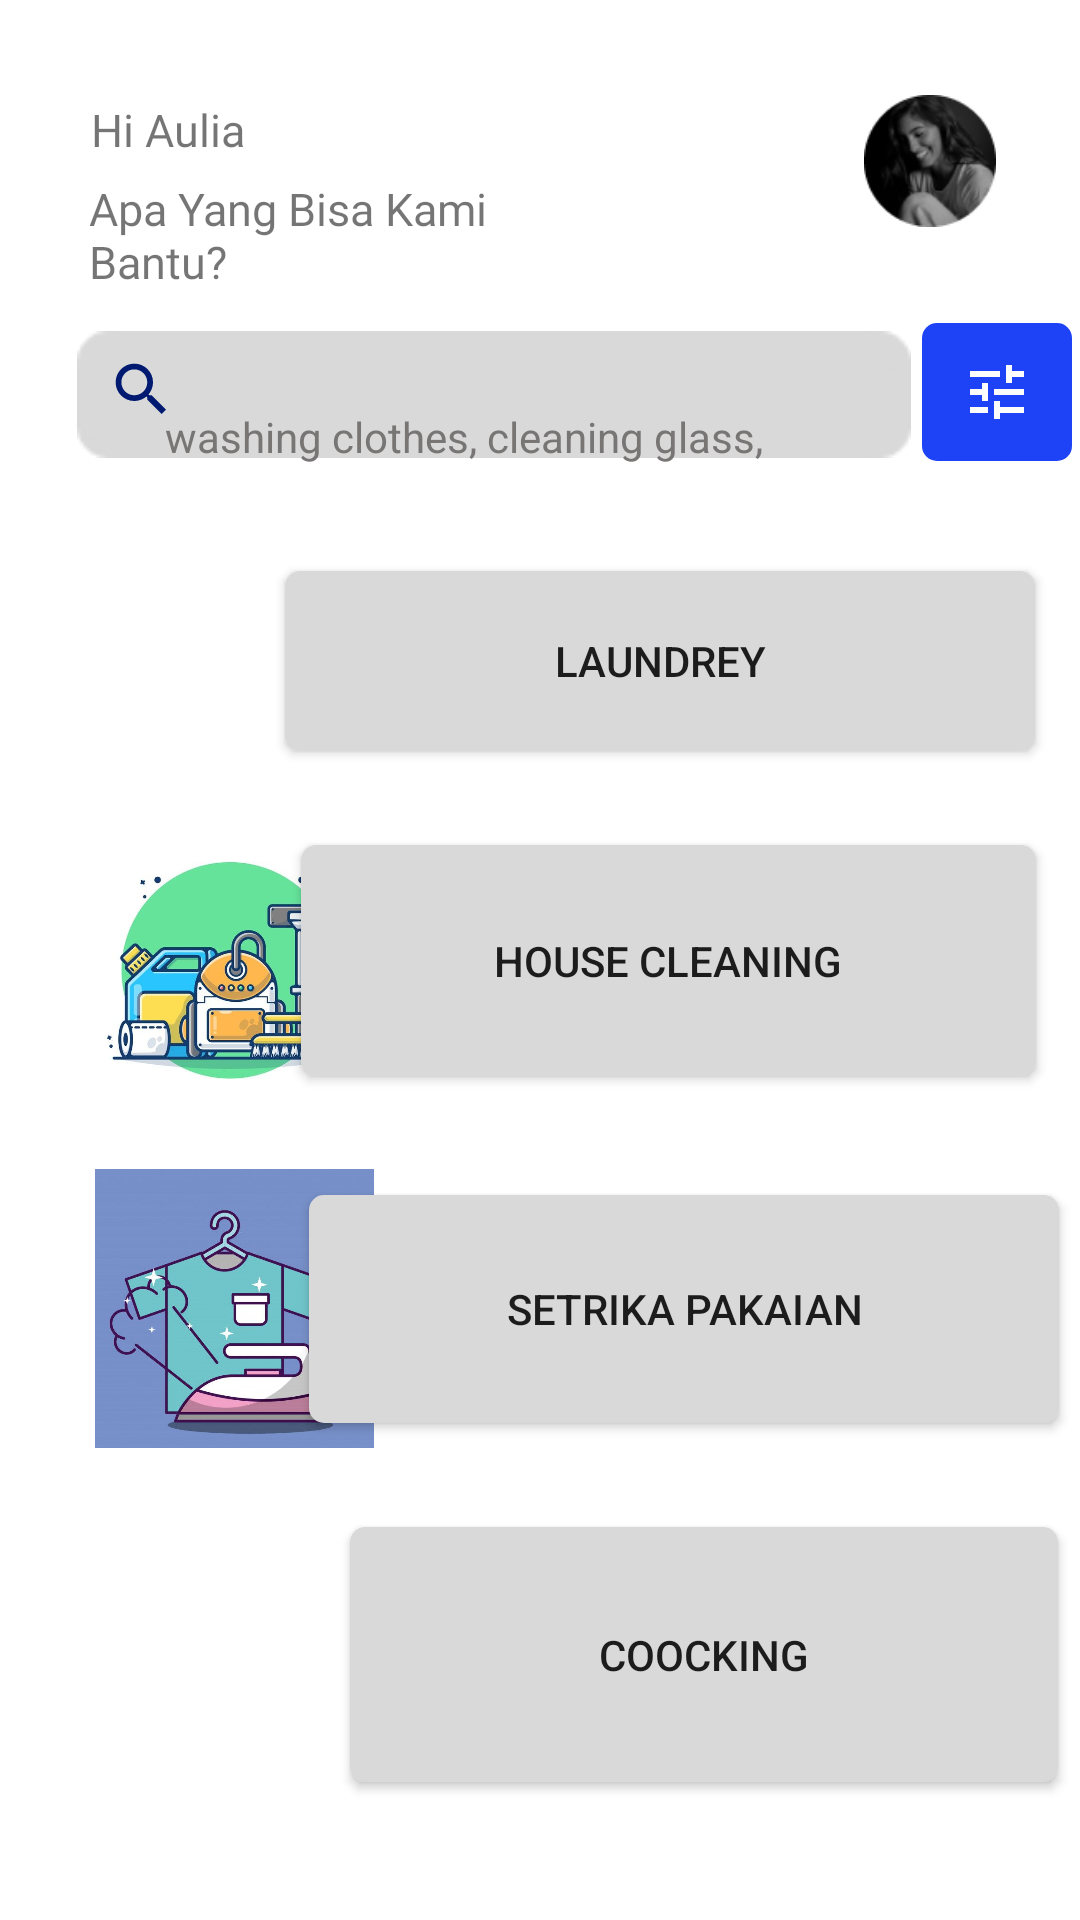

Icon bounding boxes for this 1080 × 1920 phone screenshot, format (x1, y1, x2, y2):
search: (115, 363, 166, 414)
tune: (922, 323, 1072, 461)
